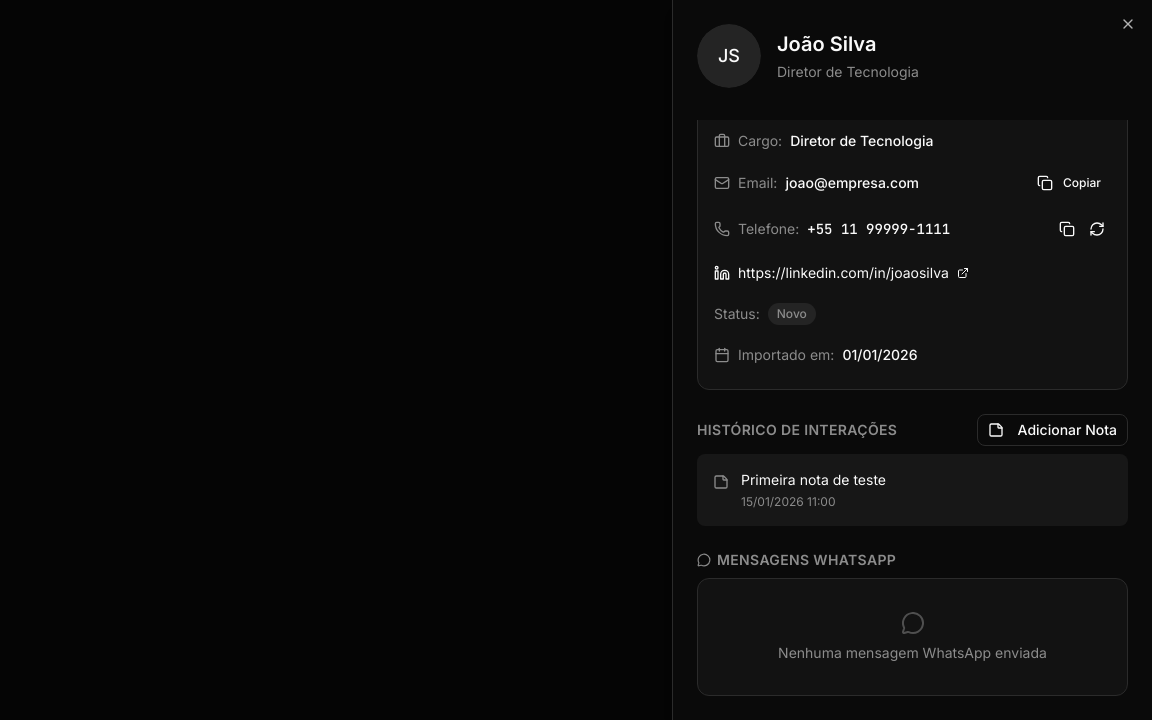
Test: LeadDetailPanel › AC #4 - Add interaction note › shows textarea when clicking 'Adicionar Nota'
(page scrolled)
Click the button "Adicionar Nota" at coordinates (1052, 430), box [977,414,1128,446]
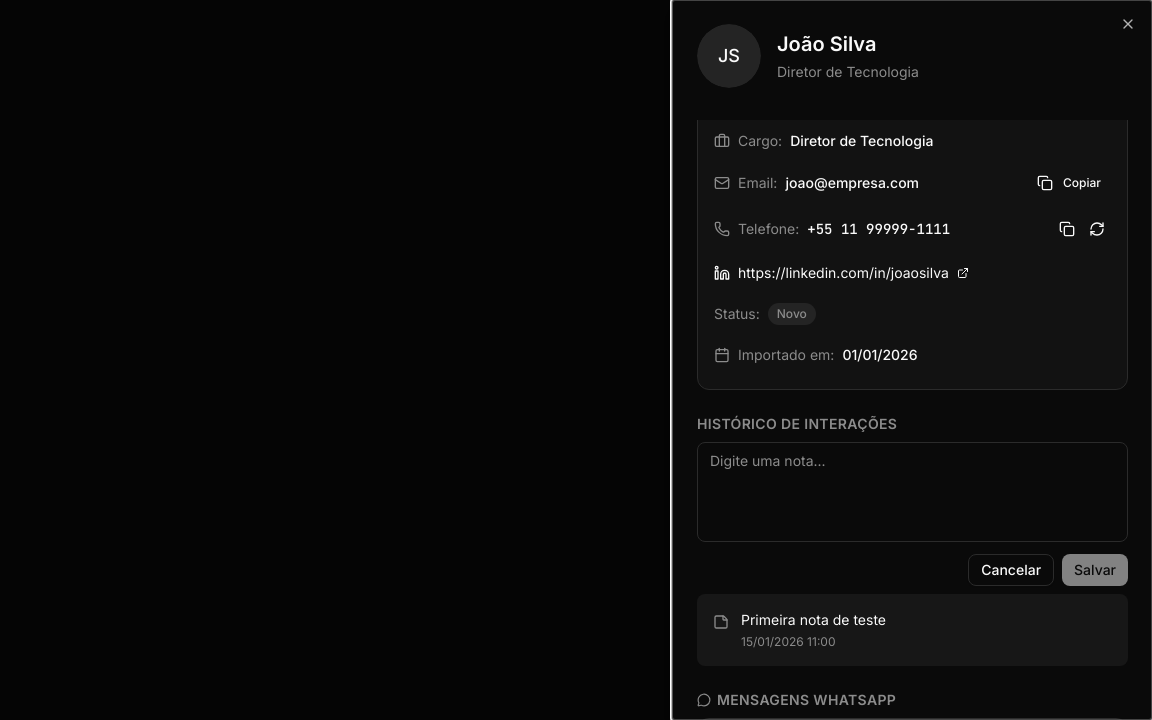
Now the text box with placeholder "Digite uma nota..." is shown, box [697,442,1128,542]
Now the button "Salvar" is shown, box [1062,554,1128,586]
Now the button "Cancelar" is shown, box [968,554,1054,586]
